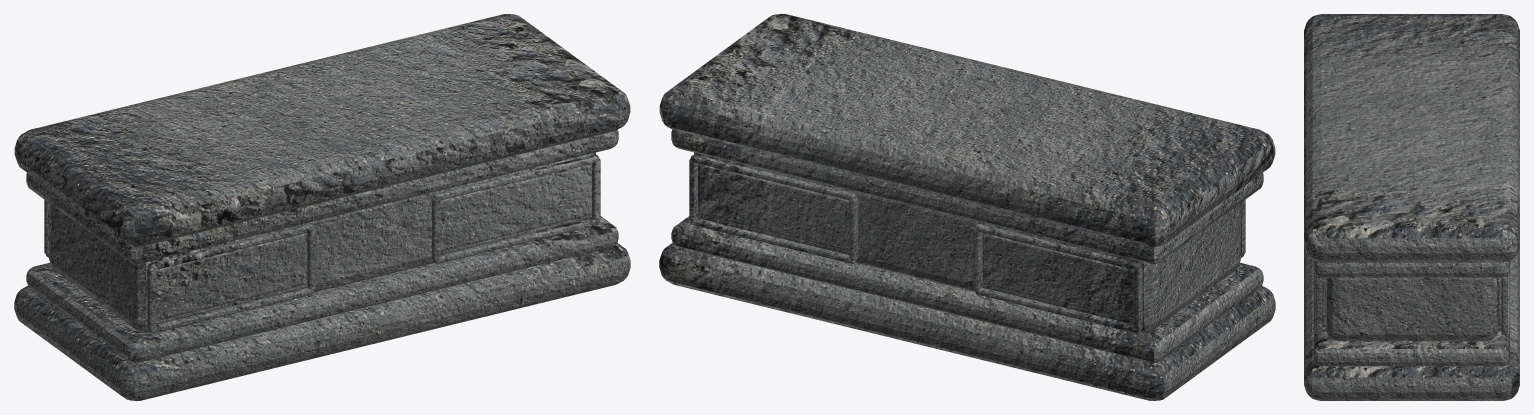
File: stone-tomb-v03.glb
3 renders of one model, left to right at view 1: azimuth 30°, elevation 25°; view 2: azimuth 150°, elevation 25°; view 3: azimuth 270°, elevation 25°, orthographic. The views are drawn at different scales.
Parts seen in each view (by area): view 1: Heavy fitted lid, Lower plinth, Sarcophagus body, Foot moulding, Upper moulding, Inset side panel, Inset side panel.001, Panel horizontal border.003, Panel horizontal border.001, Panel horizontal border, Panel horizontal border.002, Panel vertical border (+2 smaller); view 2: Heavy fitted lid, Lower plinth, Sarcophagus body, Foot moulding, Upper moulding, Inset side panel.002, Inset side panel.003, Panel horizontal border.007, Panel horizontal border.005, Panel horizontal border.004, Panel horizontal border.006, Panel vertical border.004 (+2 smaller); view 3: Heavy fitted lid, Sarcophagus body, Lower plinth, Foot moulding, Upper moulding, Panel vertical border.003, Panel vertical border.007.
Part boxes in pixels (x1,y1,x2,y2): Heavy fitted lid: (14,14,630,246); Lower plinth: (14,243,630,400); Sarcophagus body: (49,152,595,332); Foot moulding: (26,216,618,362); Upper moulding: (26,130,618,263); Inset side panel: (156,233,307,320); Inset side panel.001: (440,164,591,251); Panel horizontal border.003: (433,154,599,200); Panel horizontal border.001: (149,224,314,269); Panel horizontal border: (149,287,314,333); Panel horizontal border.002: (433,218,599,263); Panel vertical border: (147,267,156,330); Heavy fitted lid: (659,14,1275,246); Lower plinth: (659,243,1275,400); Sarcophagus body: (694,152,1240,332); Foot moulding: (671,216,1263,362); Upper moulding: (671,130,1263,263); Inset side panel.002: (982,233,1133,320); Inset side panel.003: (698,164,849,251); Panel horizontal border.007: (690,154,856,200); Panel horizontal border.005: (975,224,1140,269); Panel horizontal border.004: (975,287,1140,333); Panel horizontal border.006: (690,218,856,263); Panel vertical border.004: (1133,267,1142,330); Heavy fitted lid: (1304,14,1519,262); Sarcophagus body: (1325,277,1498,341); Lower plinth: (1304,246,1519,400); Foot moulding: (1313,270,1510,366); Upper moulding: (1313,260,1510,277); Panel vertical border.003: (1316,276,1322,332); Panel vertical border.007: (1501,276,1507,332).
Size of the model in its own units: 2.45 by 0.893 by 1.
Materials: 2 (1 with a texture image).
